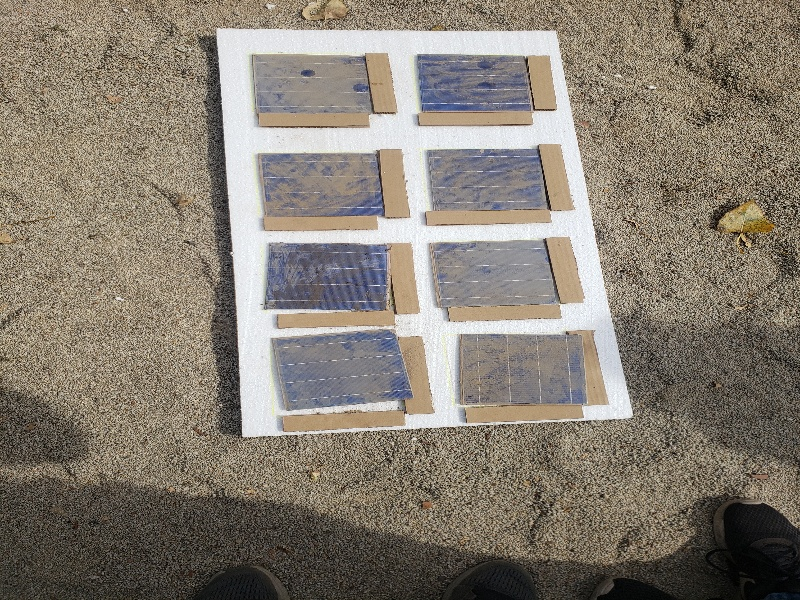dirty: (267, 329, 406, 410), (265, 244, 402, 312), (426, 241, 567, 307), (457, 336, 590, 405), (423, 150, 557, 211), (254, 155, 388, 214), (251, 55, 376, 116), (420, 55, 537, 110)
